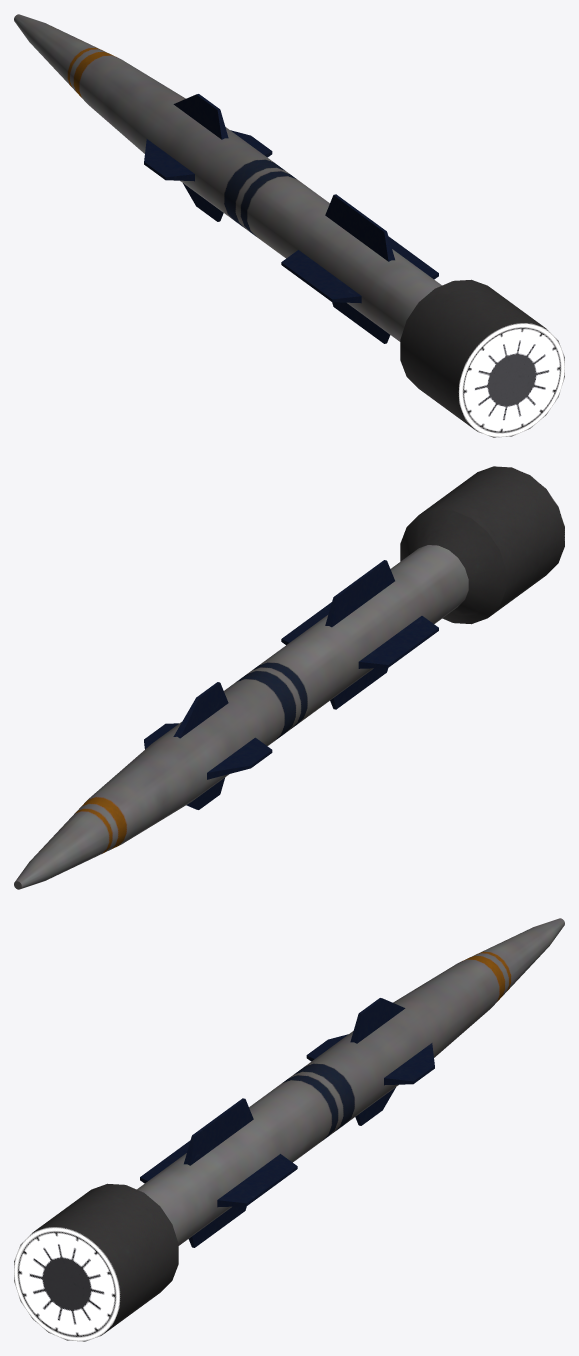
Rendered from missile_m_2.fbx.
The picture shows the model from 3 angles, top to bottom: view 1: azimuth 30°, elevation 25°; view 2: azimuth 150°, elevation 25°; view 3: azimuth 330°, elevation 25°; orthographic projection.
Parts seen in each view (by area): view 1: missile_m_2; view 2: missile_m_2; view 3: missile_m_2.
Part boxes in pixels (x1,y1,x2,y2): missile_m_2: (14, 14, 564, 437); missile_m_2: (14, 466, 564, 889); missile_m_2: (14, 918, 564, 1341).
Size of the model in its own units: 1.26 by 1.27 by 10.08.
